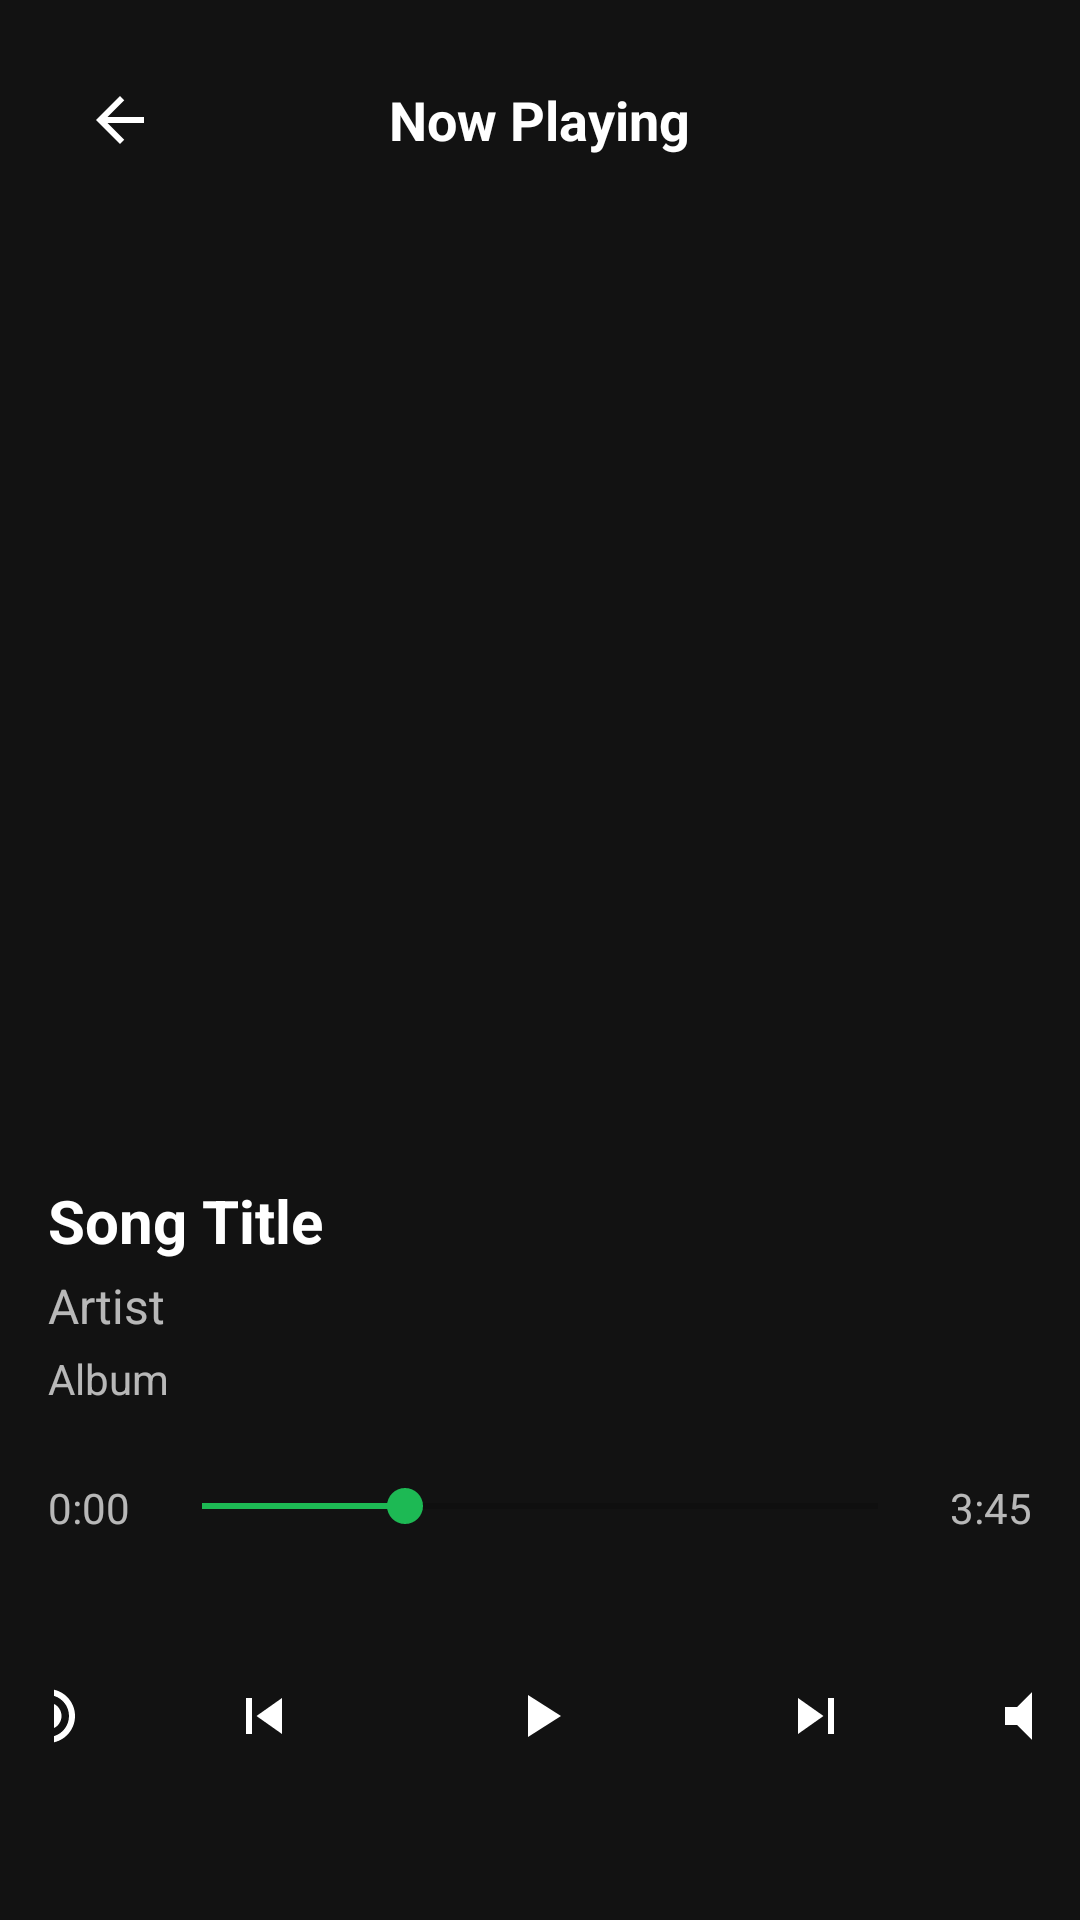

Locate icon controls on the screen. Image size 1080x1920, boxes as (x1, y1, x2, y2).
back: (96, 96, 144, 144)
play: (528, 1695, 561, 1737)
skip next: (798, 1698, 834, 1734)
skip previous: (246, 1698, 282, 1734)
